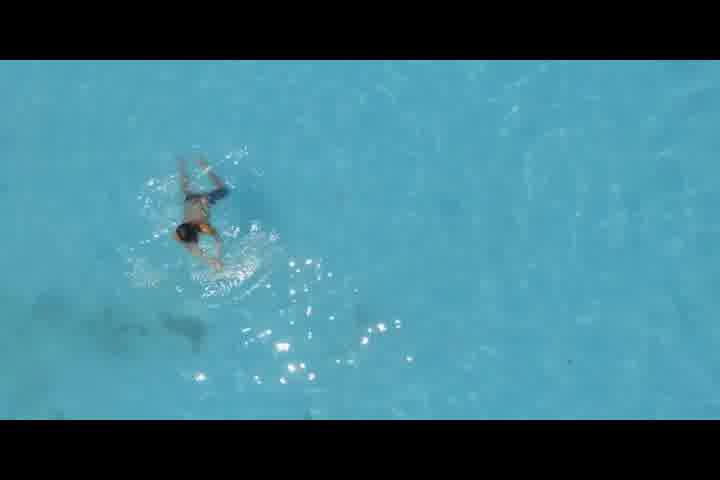human: (174, 151, 234, 278)
